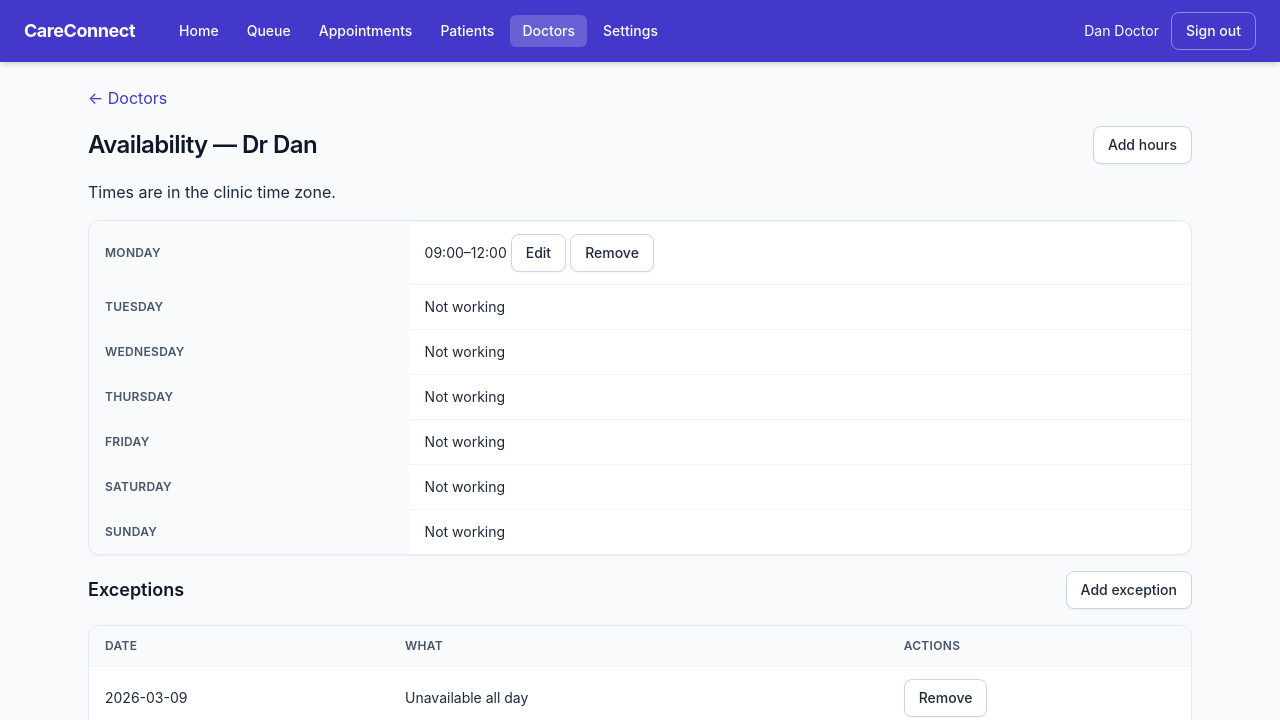
Test: Availability editor › blocks a start time that is not before the end time
Click the button "Add hours" at (1142, 145), box [1093,126,1192,164]
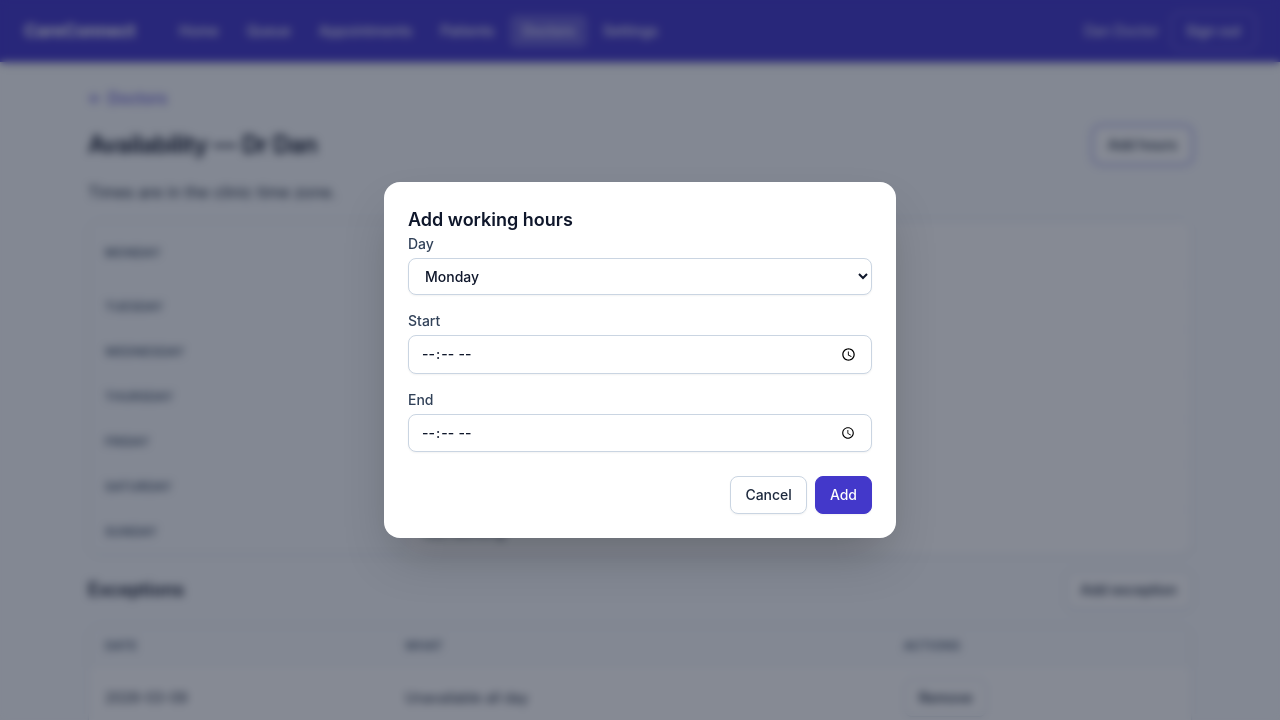
Type "12:00" into the time field labelled "Start" at (640, 354), box [408,335,872,374]
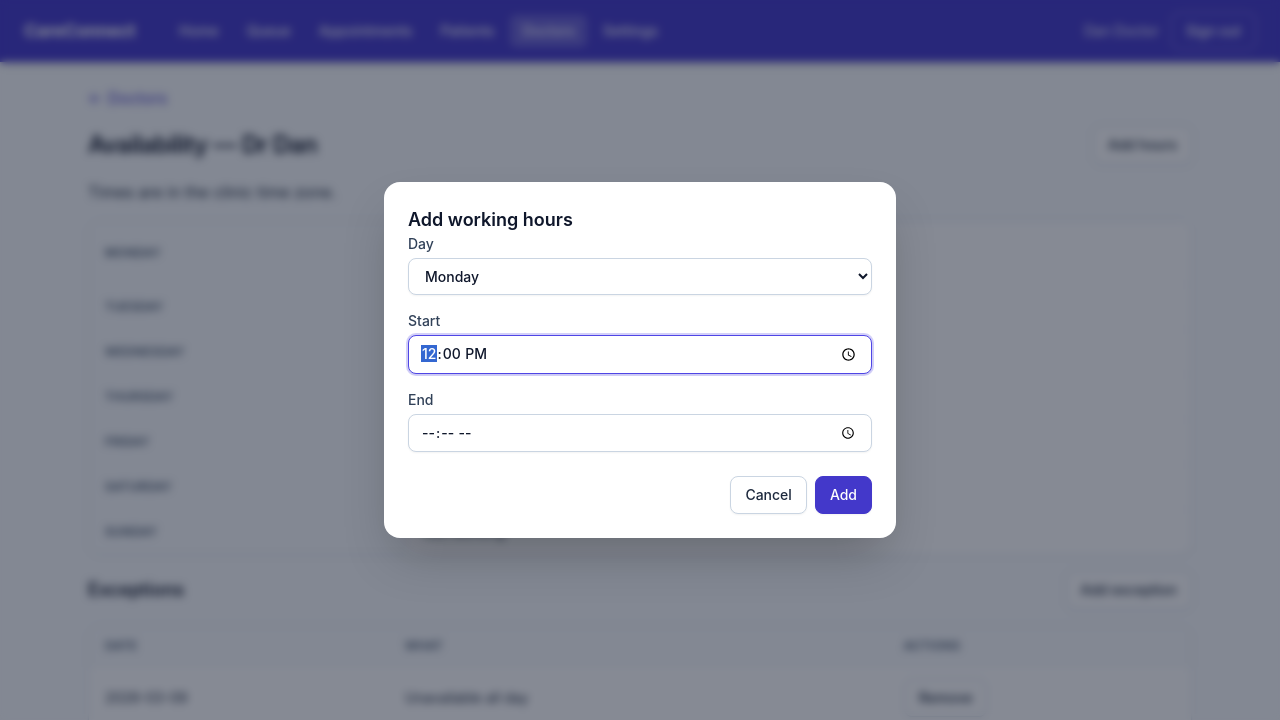
Type "09:00" into the time field labelled "End" at (640, 433), box [408,414,872,452]
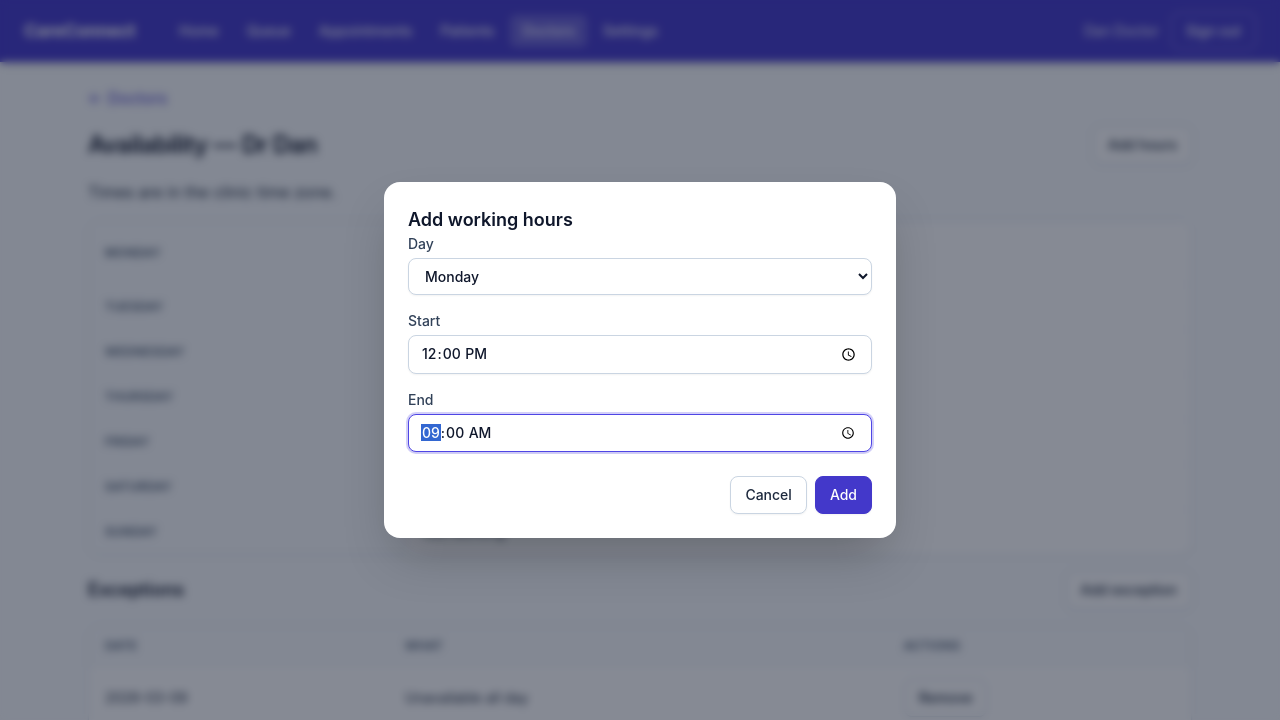
Click the button "Add" at (843, 495), box [815,476,872,514]
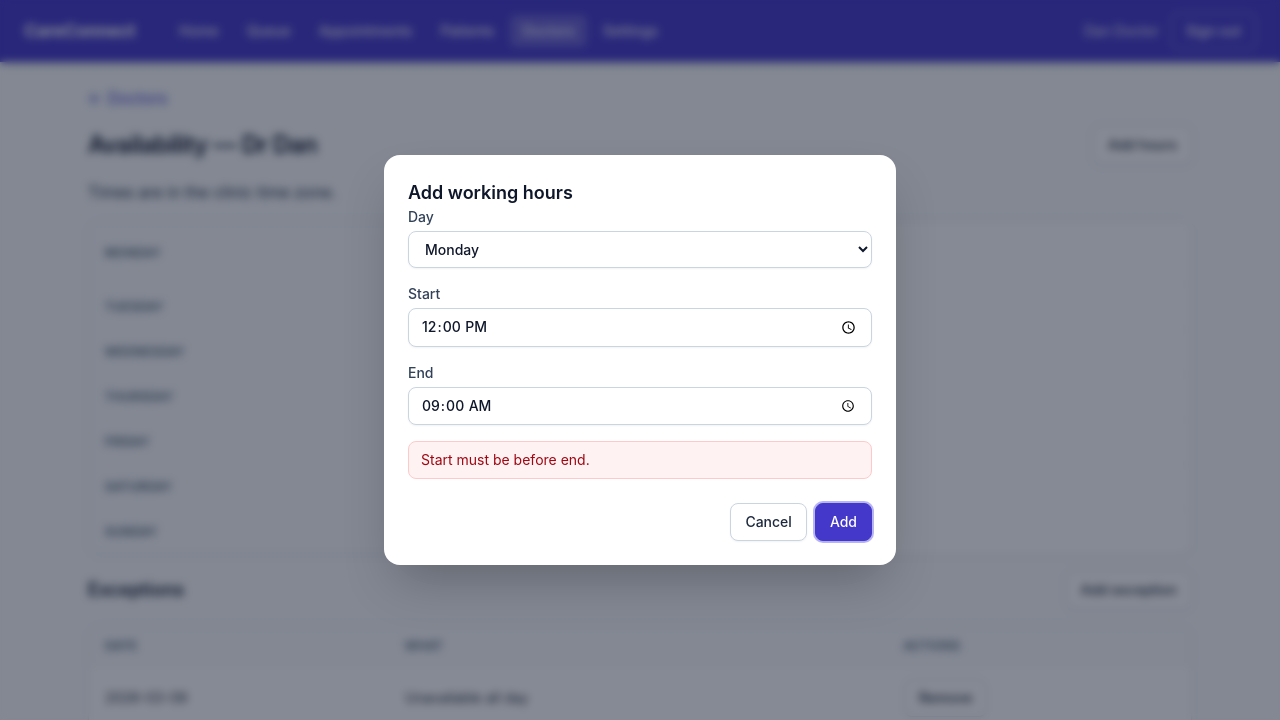
Now the message shows "Start must be before end", box [421,451,590,468]
